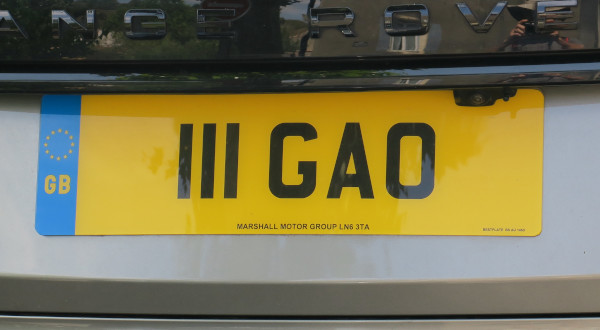license_plate: (34, 85, 543, 235)
